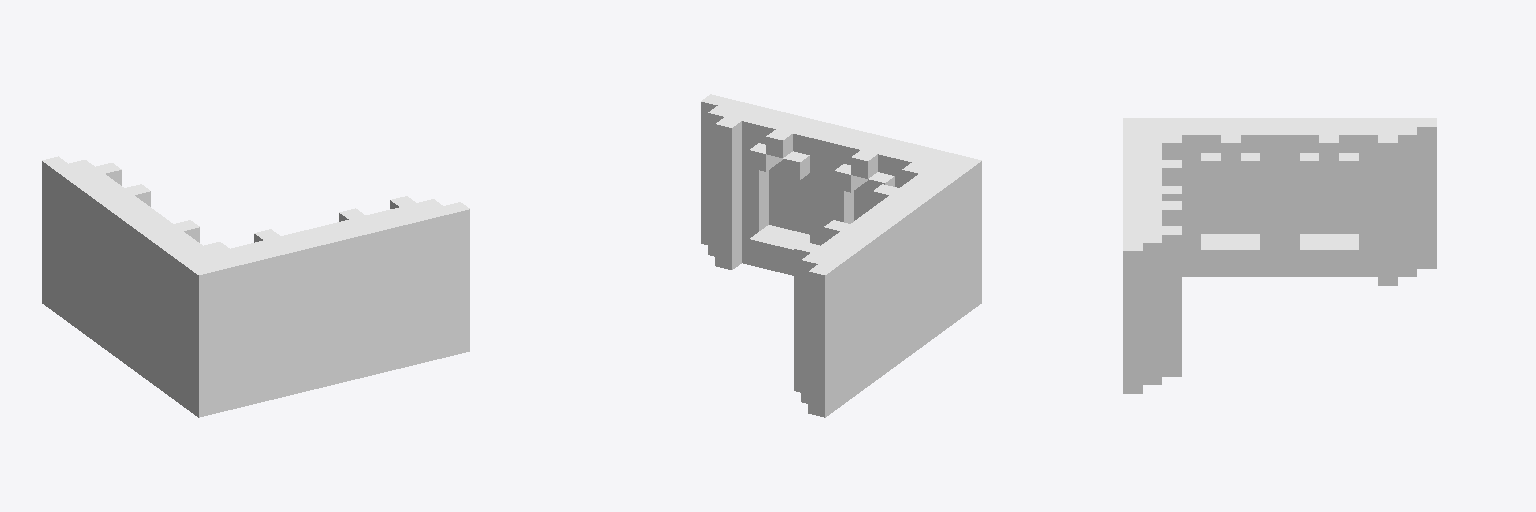
File: towar-21.obj
3 renders of one model, left to right at view 1: azimuth 30°, elevation 25°; view 2: azimuth 150°, elevation 25°; view 3: azimuth 270°, elevation 25°, orthographic.
Parts seen in each view (by area): view 1: towar-21; view 2: towar-21; view 3: towar-21.
Boxes of the visible parts, box(x1,y1,x2,y2) form: towar-21: box(42, 156, 469, 417); towar-21: box(701, 94, 981, 417); towar-21: box(1123, 118, 1436, 393).
Bounding box in the file's own units: 16 × 8 × 16.